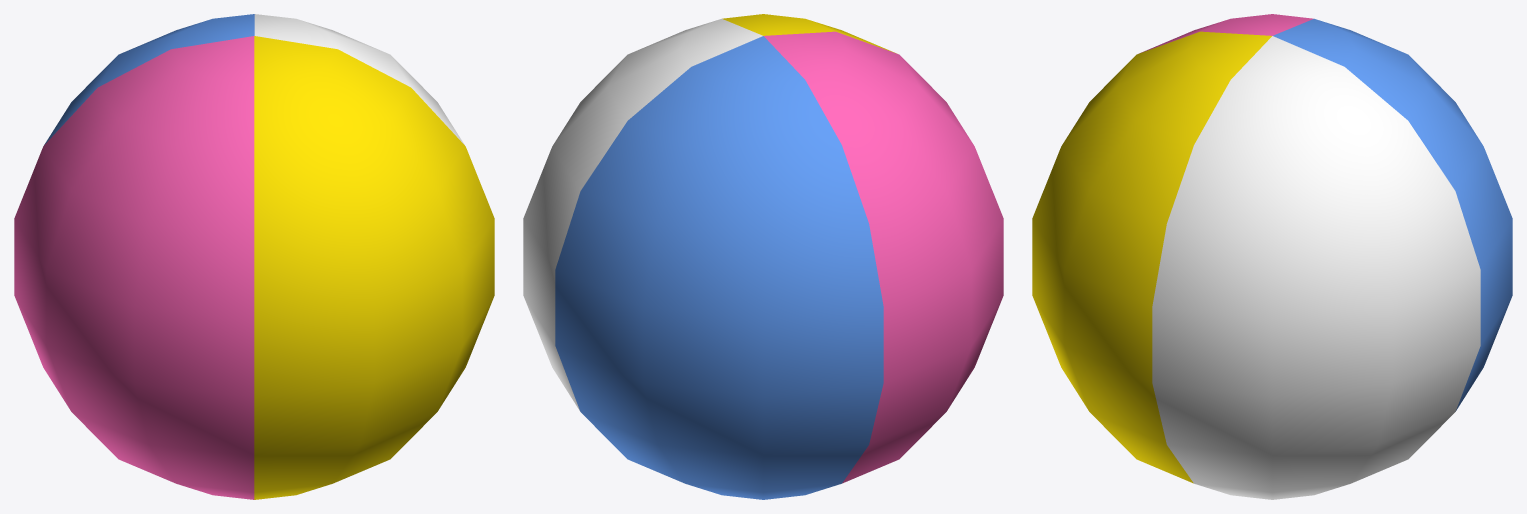
File: diff_4.2.fbx
3 renders of one model, left to right at view 1: azimuth 30°, elevation 25°; view 2: azimuth 150°, elevation 25°; view 3: azimuth 270°, elevation 25°, orthographic.
Parts seen in each view (by area): view 1: Sphere; view 2: Sphere; view 3: Sphere.
Part boxes in pixels (x1,y1,x2,y2): Sphere: (14, 14, 494, 499); Sphere: (523, 14, 1003, 499); Sphere: (1032, 14, 1512, 499).
Bounding box in the file's own units: 197 × 200 × 197.
